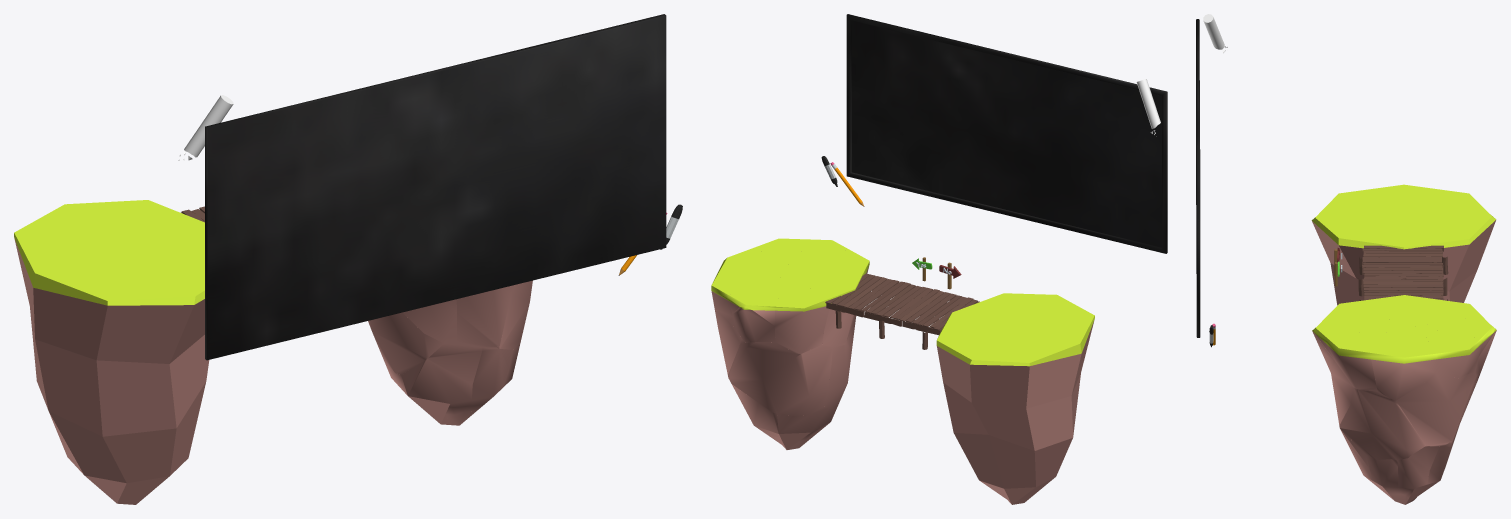
The model's file is sIsland.glb.
3 renders of one model, left to right at view 1: azimuth 30°, elevation 25°; view 2: azimuth 150°, elevation 25°; view 3: azimuth 270°, elevation 25°, orthographic. The views are drawn at different scales.
Parts seen in each view (by area): view 1: Blackboard, OLand, Xland_cell.008, Xland_cell.021, Xland_cell.009, Xland_cell.020, Xland_cell.002, Xland_cell.007, chalk; view 2: Blackboard, OLand, Dock_Wide, Xland_cell, Xland_cell.022, Xland_cell.015, Xland_cell.017, Xland_cell.019, Xland_cell.023, Xland_cell.014, Xland_cell.025, Xland_cell.009 (+7 smaller); view 3: OLand, Dock_Wide, Xland_cell.007, Xland_cell.019, Xland_cell.011, Xland_cell.016, Xland_cell.023, Blackboard, Xland_cell.010, Xland_cell.017, Xland_cell.004, Xland_cell.014 (+7 smaller).
Boxes of the visible parts, x1,y1,x2,y2 form: Blackboard: [205, 14, 666, 360]; OLand: [14, 200, 209, 504]; Xland_cell.008: [401, 341, 482, 414]; Xland_cell.021: [456, 285, 515, 347]; Xland_cell.009: [368, 312, 443, 375]; Xland_cell.020: [465, 347, 512, 411]; Xland_cell.002: [402, 299, 456, 343]; Xland_cell.007: [496, 280, 532, 349]; chalk: [178, 95, 233, 160]; Blackboard: [846, 14, 1167, 253]; OLand: [936, 293, 1094, 504]; Dock_Wide: [825, 273, 979, 349]; Xland_cell: [728, 339, 796, 413]; Xland_cell.022: [775, 277, 830, 354]; Xland_cell.015: [779, 344, 832, 415]; Xland_cell.017: [787, 270, 862, 347]; Xland_cell.019: [718, 248, 797, 277]; Xland_cell.023: [711, 271, 782, 329]; Xland_cell.014: [727, 278, 783, 325]; Xland_cell.025: [777, 406, 836, 441]; Xland_cell.009: [824, 341, 851, 407]; OLand: [1311, 184, 1496, 305]; Dock_Wide: [1358, 245, 1448, 300]; Xland_cell.007: [1339, 388, 1425, 460]; Xland_cell.019: [1371, 326, 1437, 400]; Xland_cell.011: [1396, 372, 1476, 446]; Xland_cell.016: [1326, 326, 1389, 391]; Xland_cell.023: [1419, 327, 1482, 378]; Blackboard: [1196, 19, 1200, 337]; Xland_cell.010: [1397, 445, 1439, 497]; Xland_cell.017: [1373, 295, 1435, 325]; Xland_cell.004: [1328, 299, 1393, 326]; Xland_cell.014: [1418, 315, 1494, 354].
Size of the model in its own units: 186 by 179 by 135.
Materials: 17 (1 with a texture image).
